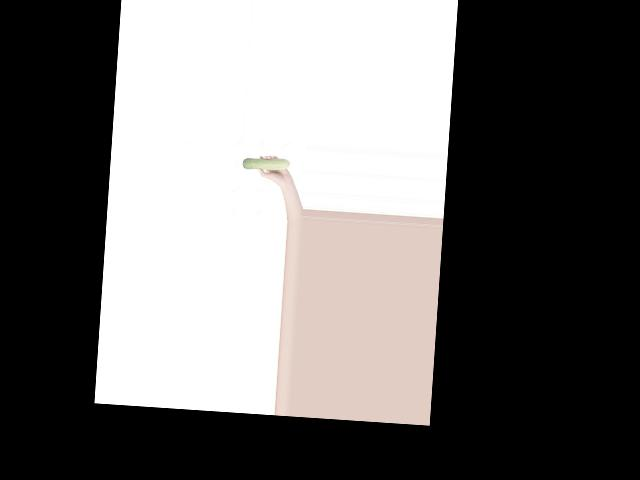cucumber: (242, 156, 290, 172)
